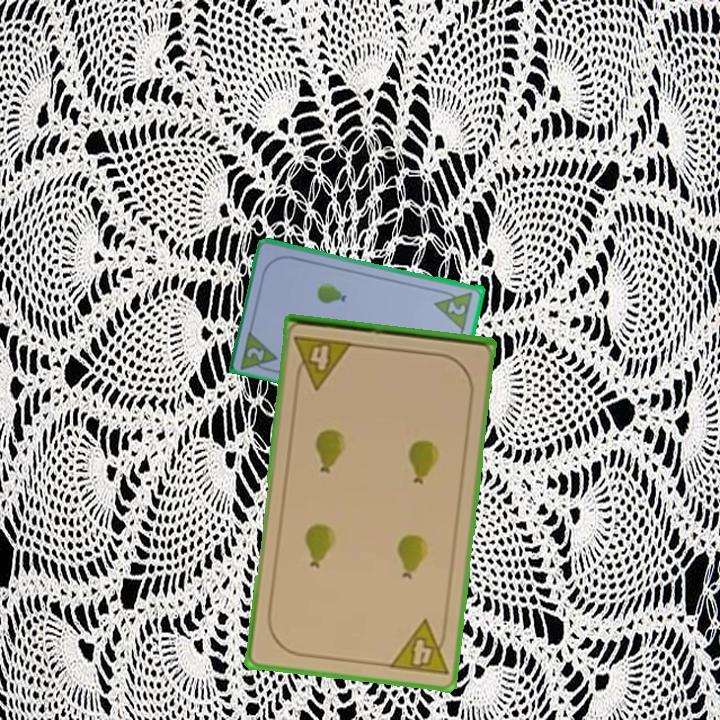2p: (237, 326, 282, 375), (444, 297, 469, 318)
4p: (385, 616, 451, 678), (290, 332, 356, 392)
